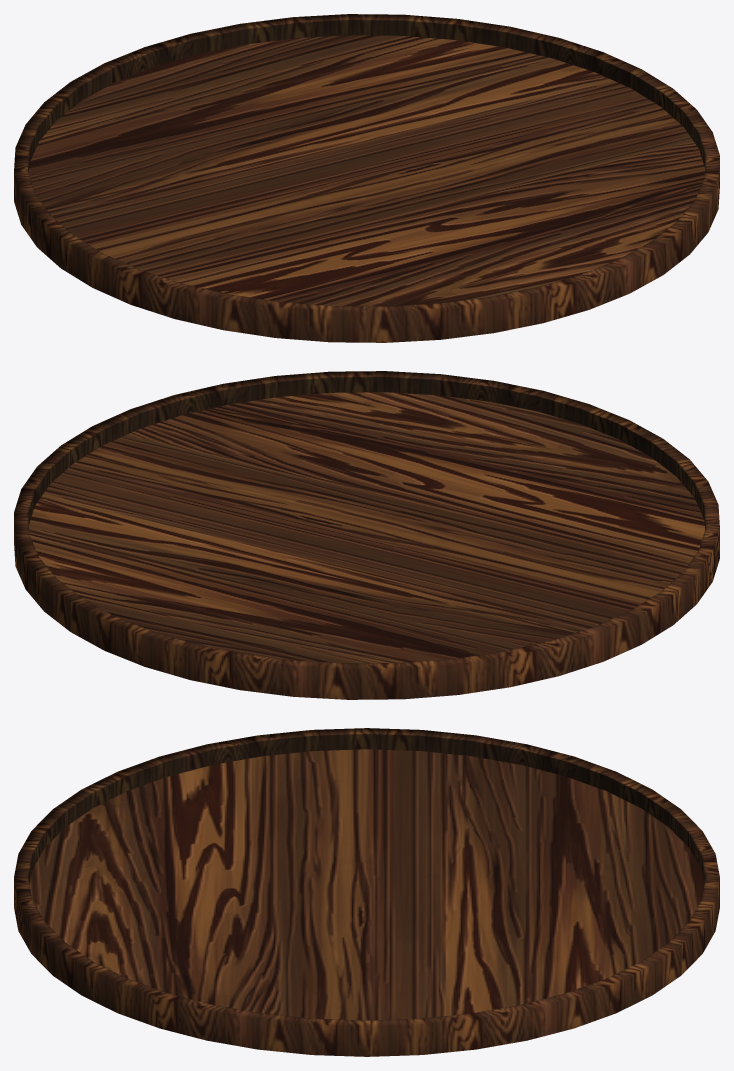
Rendered from BgMD_Obon.fbx.
3 renders of one model, top to bottom at view 1: azimuth 30°, elevation 25°; view 2: azimuth 150°, elevation 25°; view 3: azimuth 270°, elevation 25°, orthographic.
Visible parts, largest first — view 1: BgMD_obon; view 2: BgMD_obon; view 3: BgMD_obon.
Part boxes in pixels (bbox=[...]): BgMD_obon: bbox=[14, 14, 719, 342]; BgMD_obon: bbox=[14, 371, 719, 699]; BgMD_obon: bbox=[14, 728, 719, 1056].
Size of the model in its own units: 5.33 by 0.2537 by 5.33.
